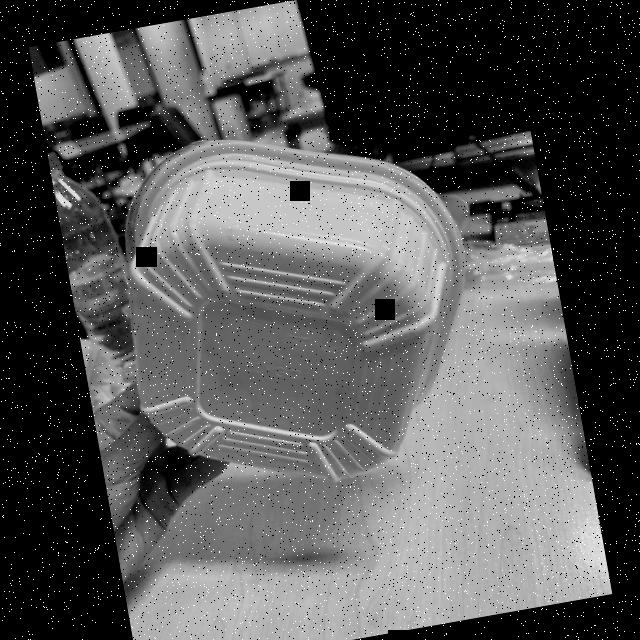plastic_box: (88, 94, 498, 528)
